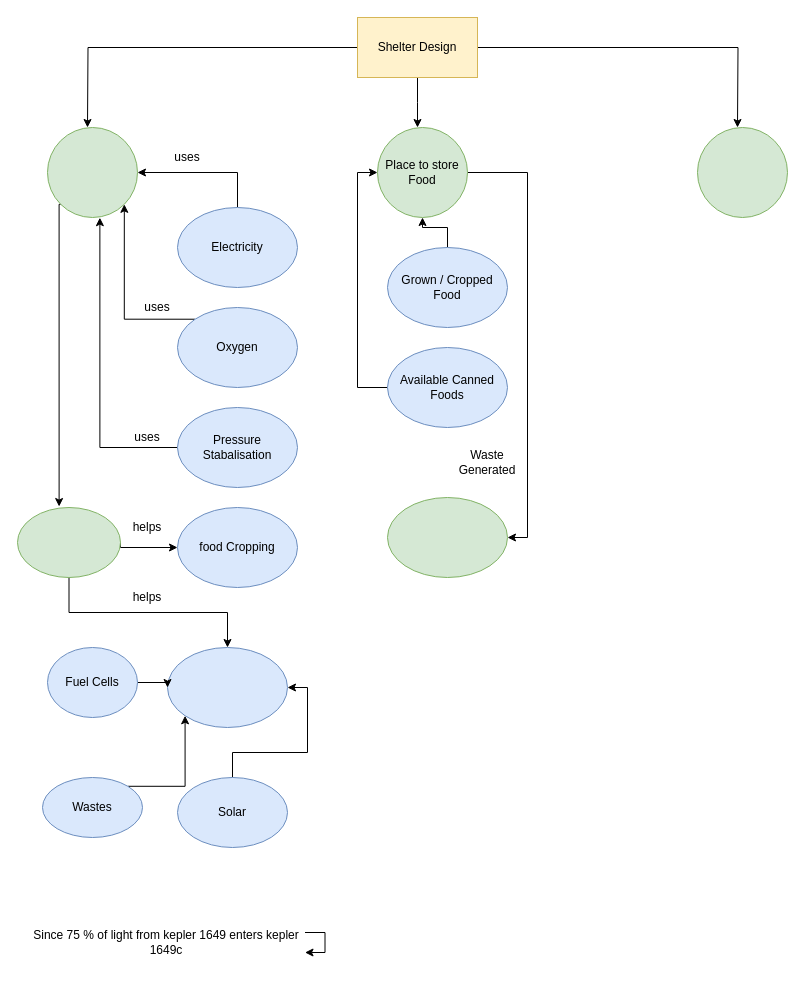
Some shapes in this 805 by 1005 pixel diagram are drawn without their labels. The centre of each missing label's shape, as x and y in pixels:
Energy Production: the point at 447,537
Energy Solutions: the point at 227,687
Place to live: the point at 92,172
Place to store energy and equipments: the point at 742,172
Waste: the point at 68,542
